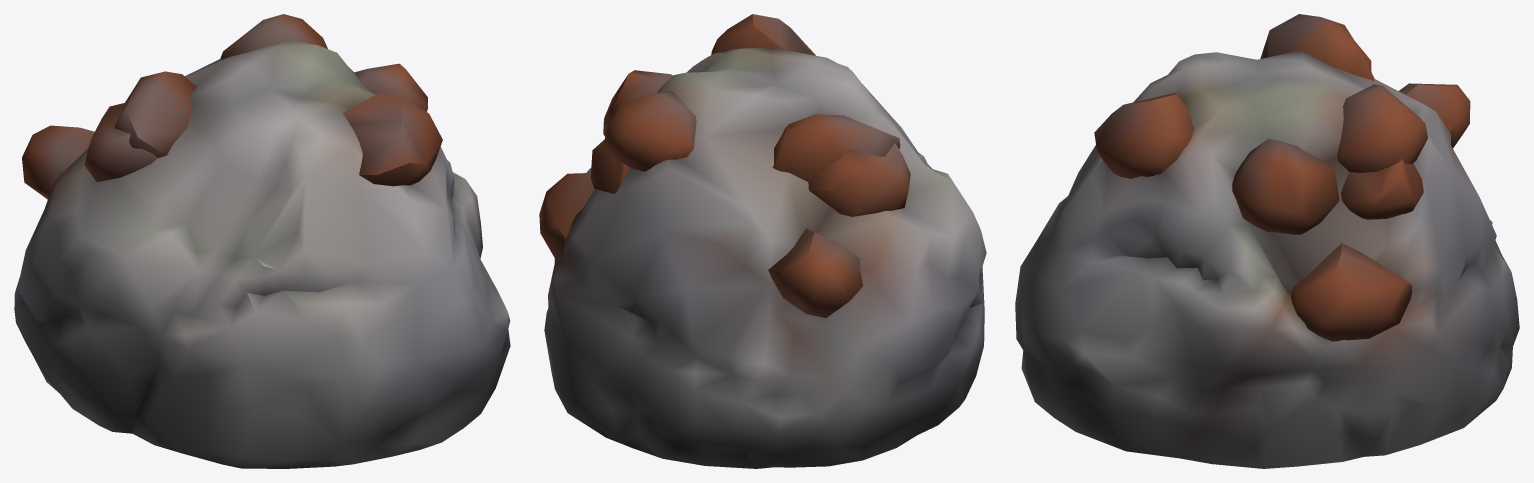
Rendered from node-ironVein-v1.glb.
3 renders of one model, left to right at view 1: azimuth 30°, elevation 25°; view 2: azimuth 150°, elevation 25°; view 3: azimuth 270°, elevation 25°, orthographic. The views are drawn at different scales.
Parts seen in each view (by area): view 1: 0_vein.001; view 2: 0_vein.001; view 3: 0_vein.001.
Part boxes in pixels (<box>): 0_vein.001: <box>14,14,510,468</box>; 0_vein.001: <box>539,14,986,468</box>; 0_vein.001: <box>1015,14,1519,468</box>.
Size of the model in its own units: 1.95 by 1.38 by 2.01.
